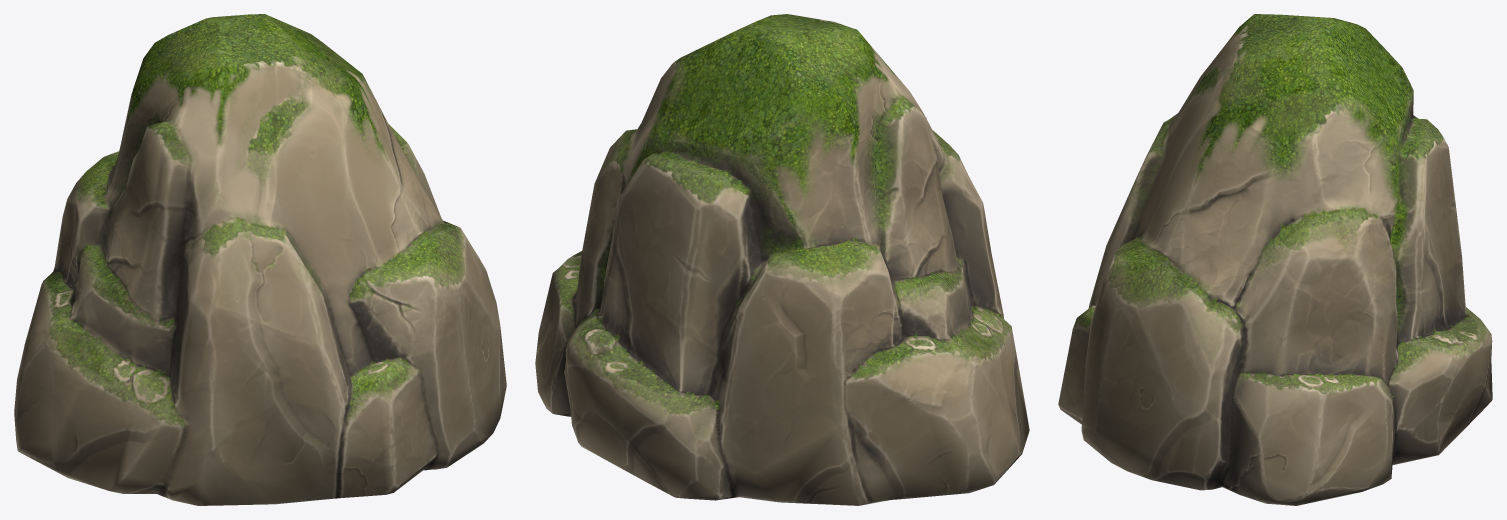
The model's file is stylized_stone_2.glb.
3 views of the same model, side by side, from view 1: azimuth 30°, elevation 25°; view 2: azimuth 150°, elevation 25°; view 3: azimuth 270°, elevation 25° (orthographic). The views are drawn at different scales.
Visible parts, largest first — view 1: Stylized Stone 2; view 2: Stylized Stone 2; view 3: Stylized Stone 2.
Boxes of the visible parts, x1,y1,x2,y2 form: Stylized Stone 2: (14, 14, 506, 505); Stylized Stone 2: (535, 14, 1029, 505); Stylized Stone 2: (1058, 14, 1492, 505).
Bounding box in the file's own units: 3.86 × 3.16 × 3.34.
Materials: 1 (1 with a texture image).
